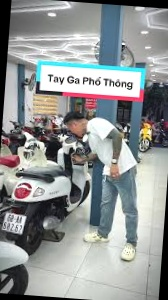Bien-so: (5, 218, 31, 241)
